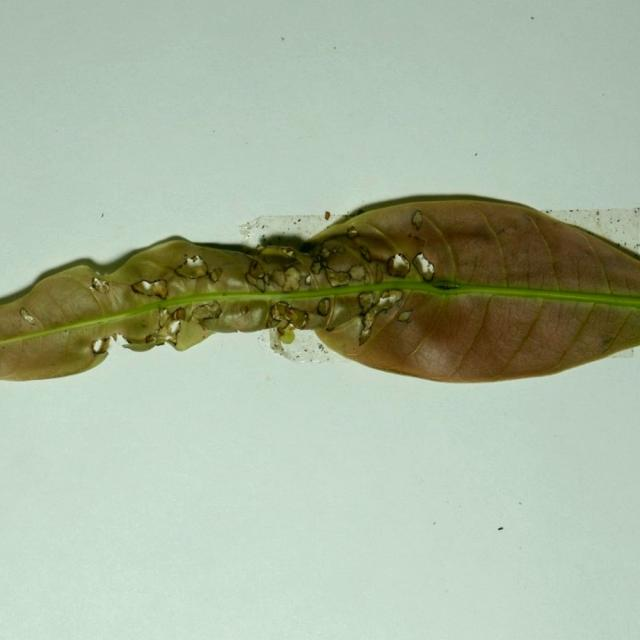Anthracnose: (362, 215, 442, 342), (127, 254, 231, 346), (328, 248, 463, 307), (311, 239, 376, 290), (247, 245, 307, 295), (407, 210, 445, 286), (357, 290, 403, 345), (136, 310, 183, 348), (267, 301, 309, 334), (346, 227, 379, 267), (174, 254, 210, 280), (130, 279, 169, 300), (244, 259, 268, 293), (258, 245, 300, 264), (358, 306, 378, 343), (91, 333, 121, 357), (386, 252, 411, 279), (358, 290, 379, 312), (90, 277, 111, 294), (19, 308, 36, 326), (317, 297, 331, 316), (411, 210, 423, 231), (408, 233, 424, 245), (249, 260, 261, 275), (346, 226, 359, 239)
Mango: (0, 196, 639, 386)
